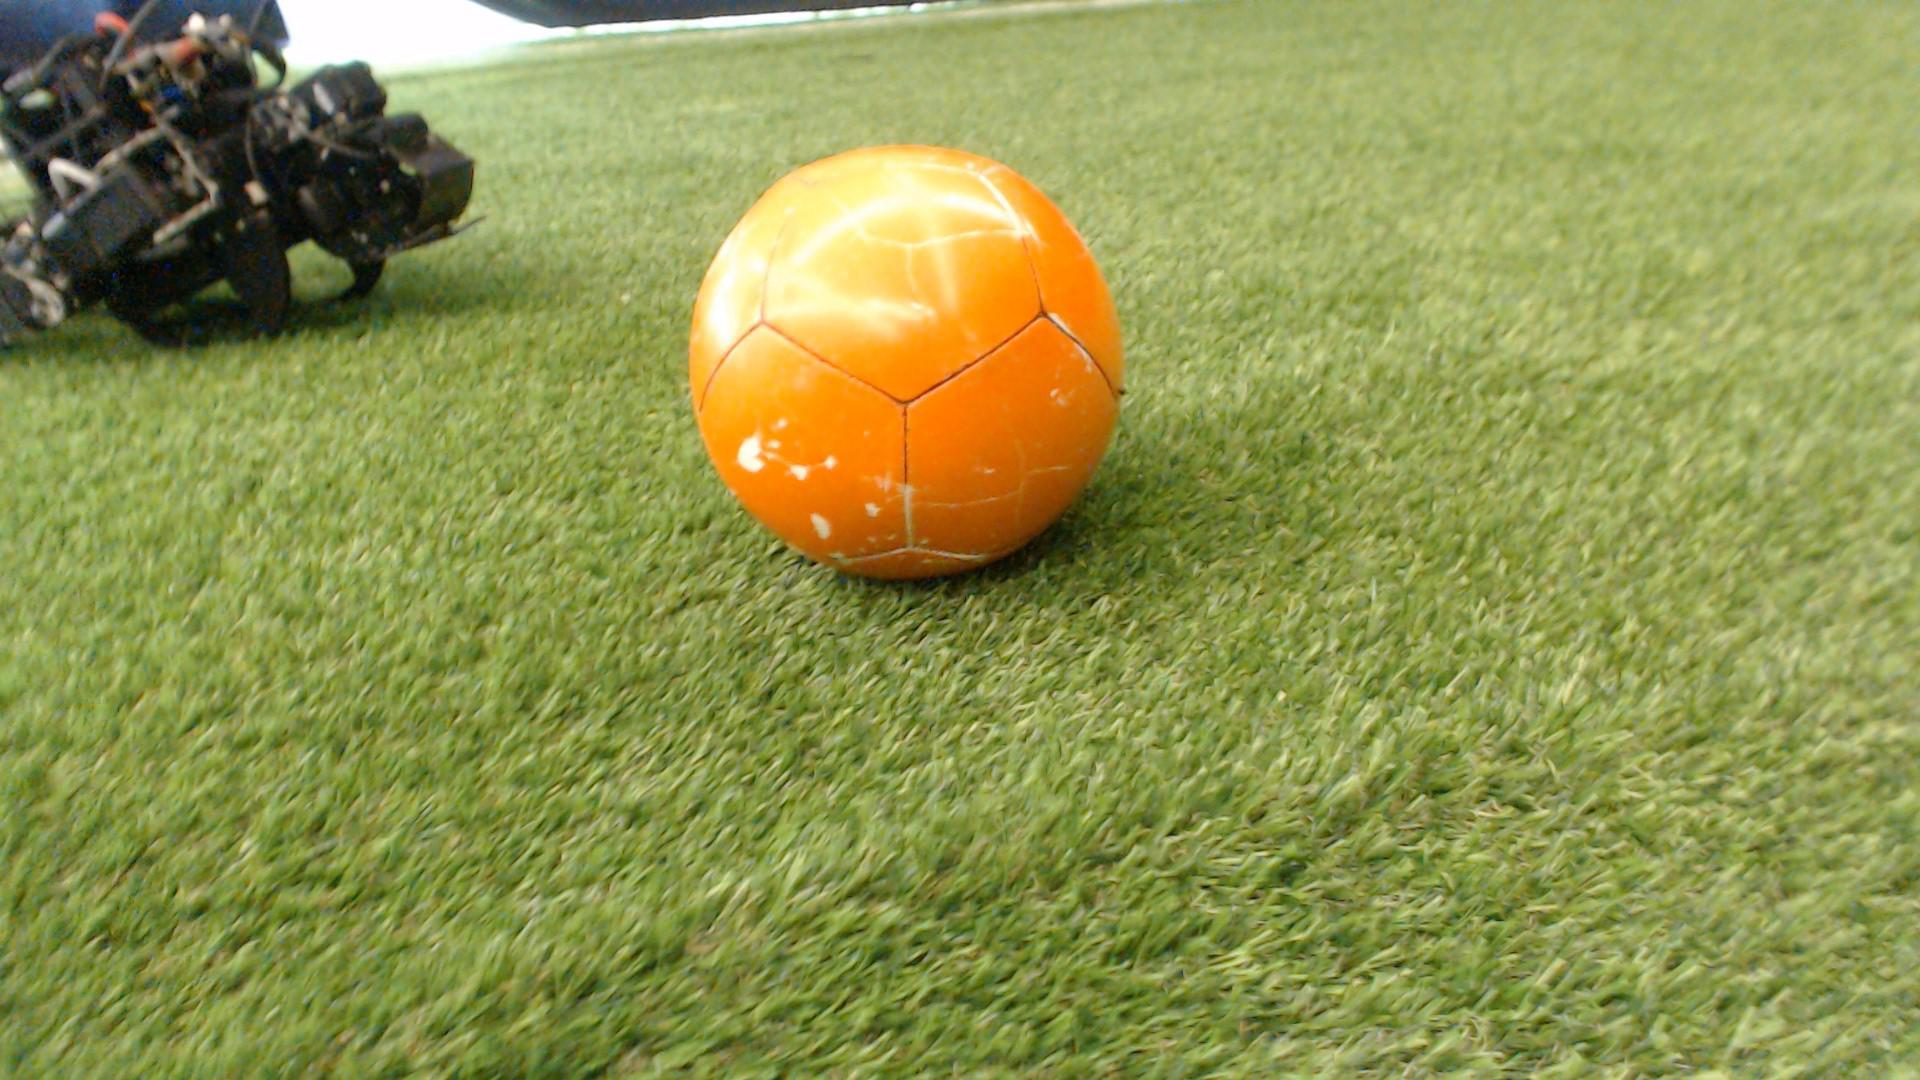bola: (671, 123, 1156, 613)
